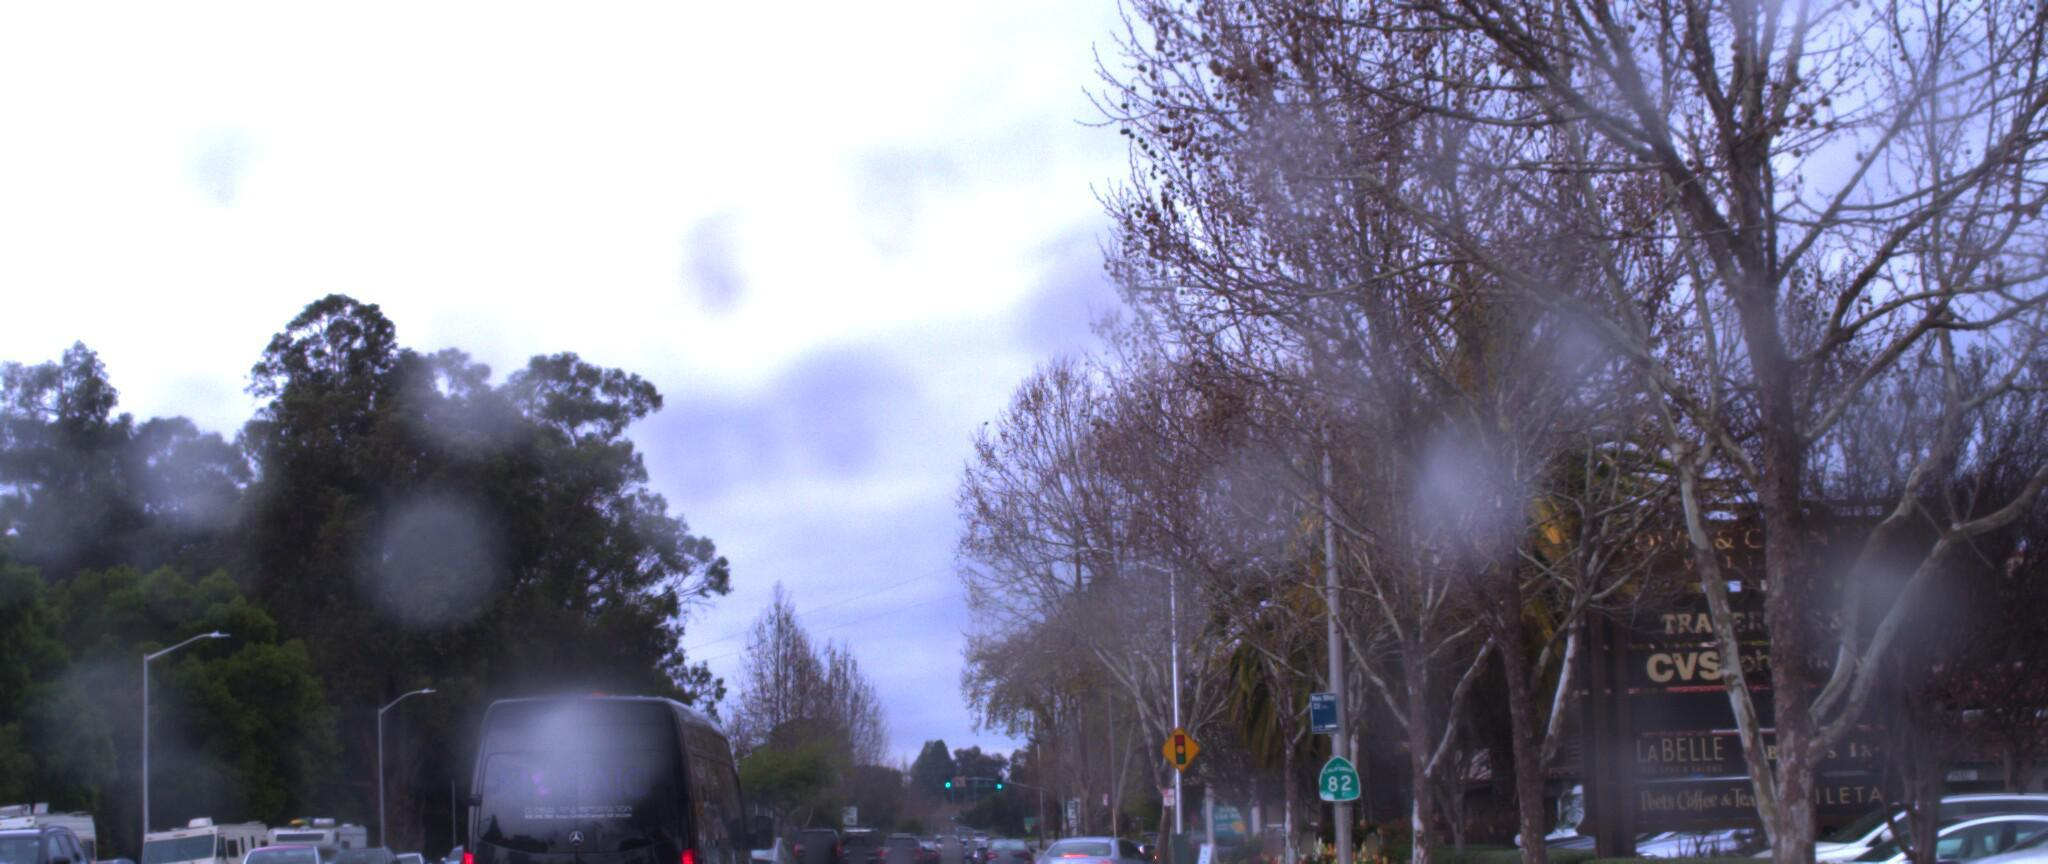car: (1716, 762, 2048, 864), (1493, 749, 1772, 864), (1765, 780, 2048, 864), (0, 805, 325, 864), (1899, 747, 2048, 864), (1015, 801, 1176, 864), (728, 803, 867, 864), (0, 801, 118, 864), (232, 816, 333, 864)
other_vehicle: (455, 656, 775, 864), (0, 770, 104, 864)
